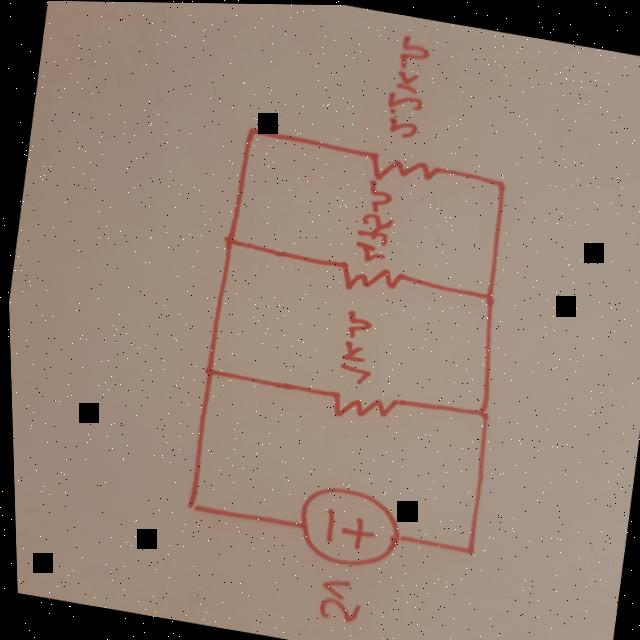junction: (216, 231, 241, 252), (464, 404, 491, 422), (454, 539, 477, 558), (175, 498, 200, 514), (195, 360, 216, 379), (244, 124, 265, 141), (487, 174, 507, 191), (477, 287, 495, 304)
resistor: (323, 255, 412, 303), (319, 384, 403, 429), (359, 146, 444, 189)
source: (288, 480, 405, 577)
text: (378, 32, 436, 140), (346, 175, 399, 267), (329, 307, 385, 387), (308, 573, 362, 627)
